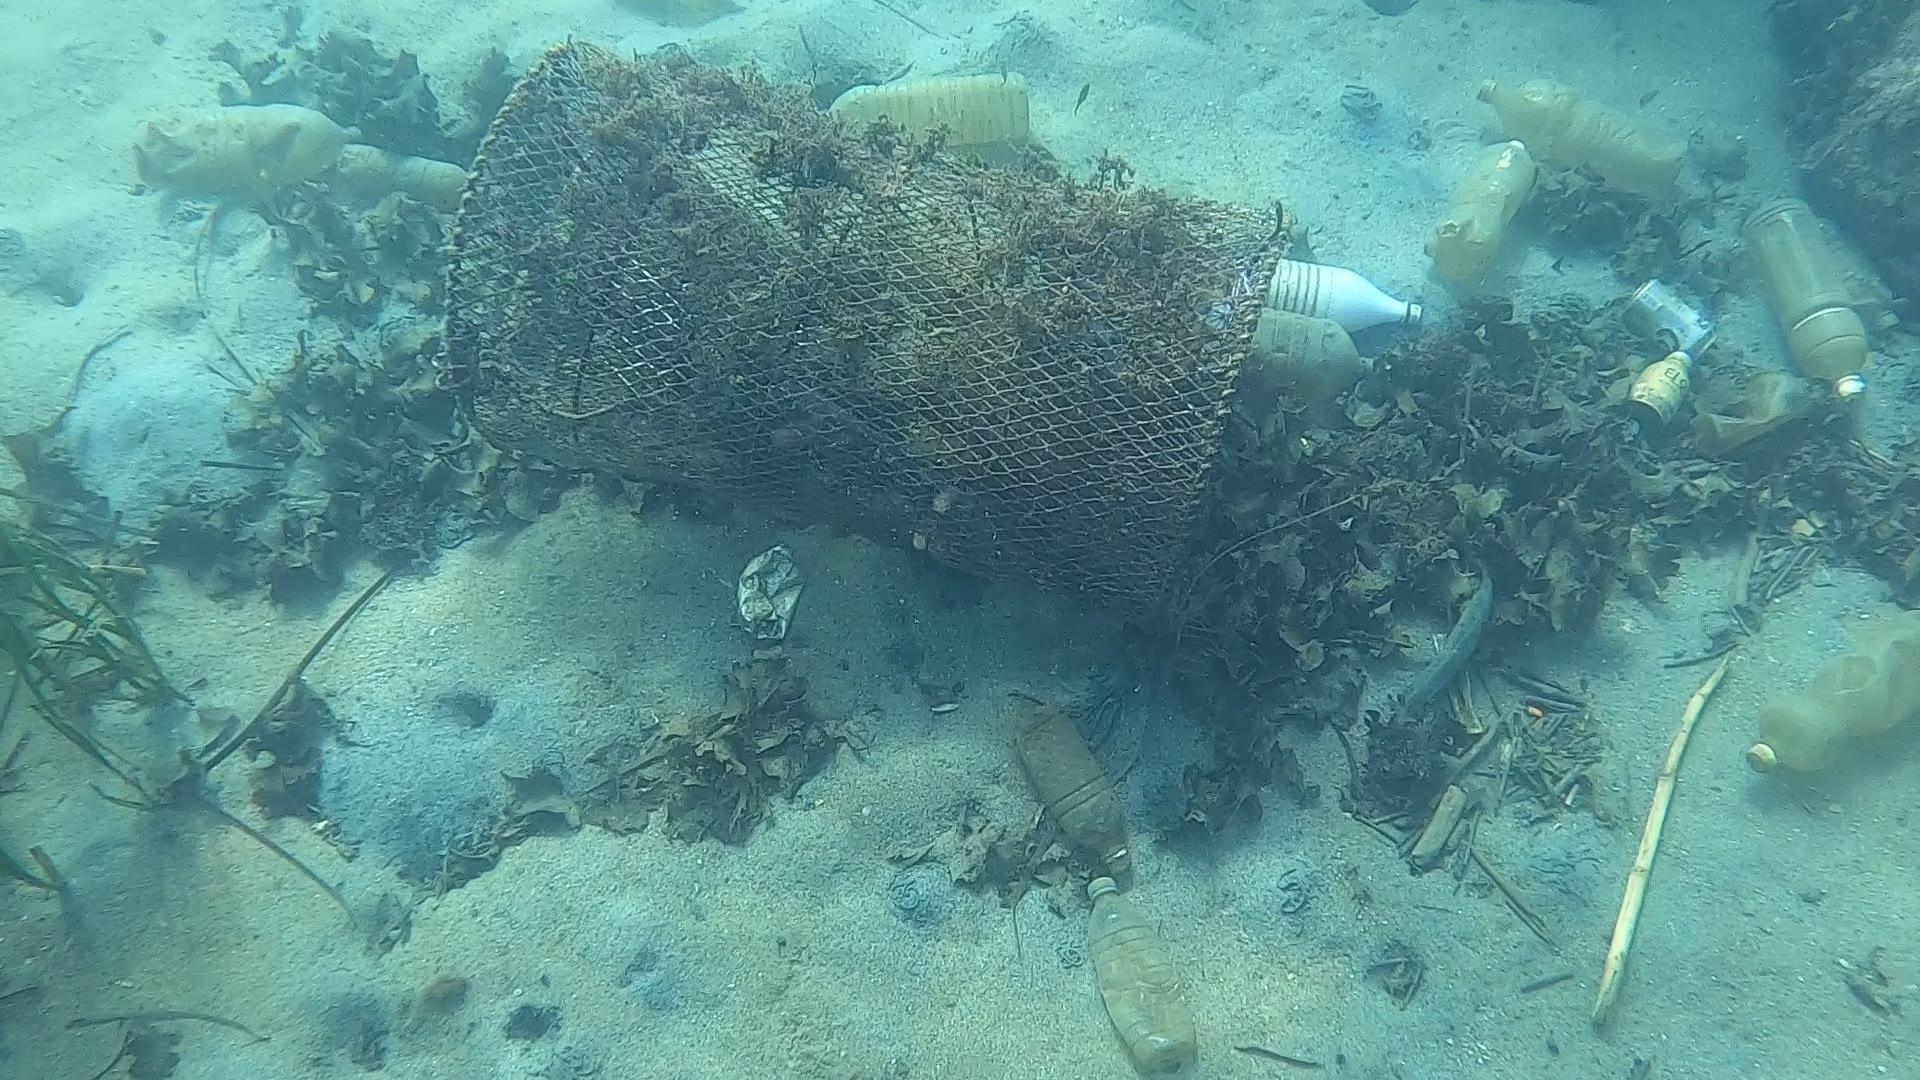spring fish trap: (447, 34, 1292, 613)
